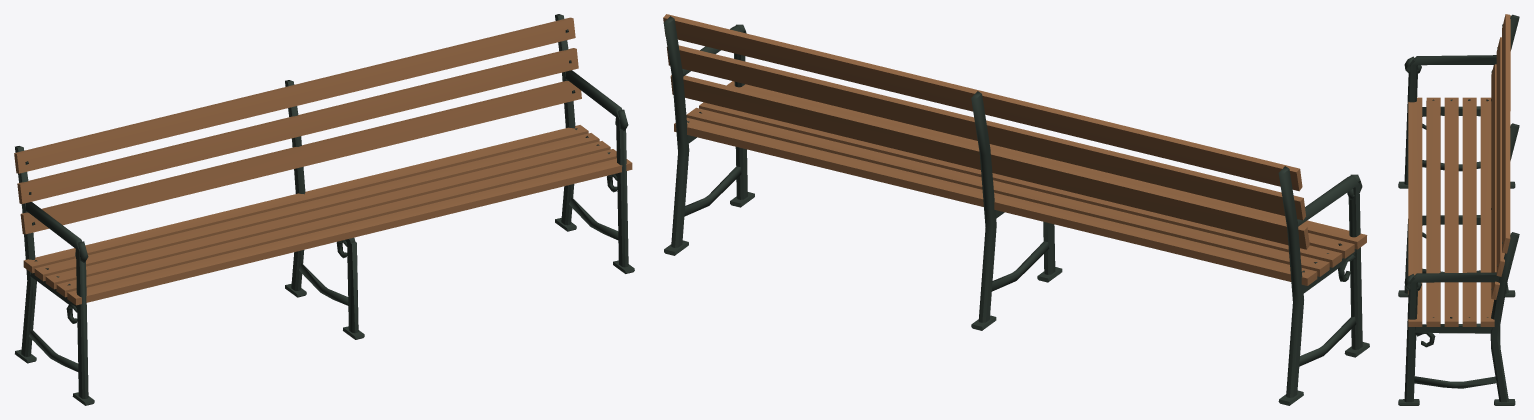
Rendered from parkBench.far.glb.
3 views of the same model, side by side, from view 1: azimuth 30°, elevation 25°; view 2: azimuth 150°, elevation 25°; view 3: azimuth 270°, elevation 25° (orthographic). The views are drawn at different scales.
Visible parts, largest first — view 1: parkBench_far; view 2: parkBench_far; view 3: parkBench_far.
Boxes of the visible parts, <box> form: parkBench_far: <box>14,14,634,405</box>; parkBench_far: <box>663,14,1369,405</box>; parkBench_far: <box>1398,14,1519,405</box>.
Bounding box in the file's own units: 2.5 × 0.8937 × 0.5701.
